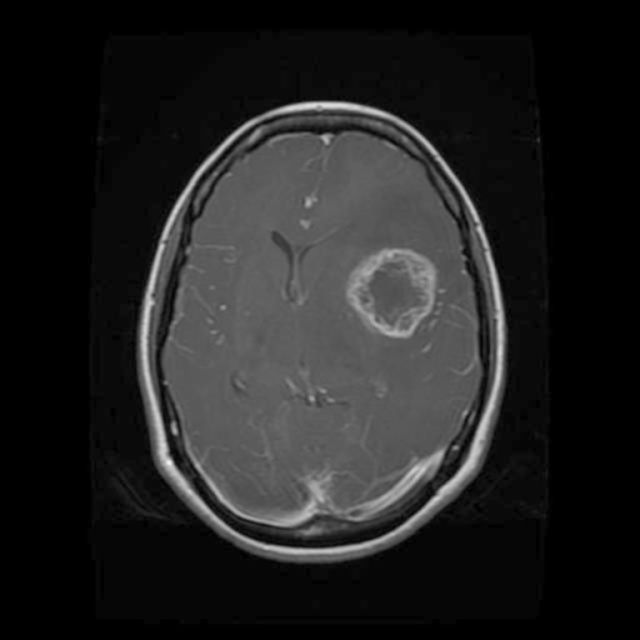pituitary tumor: (346, 246, 440, 339)
